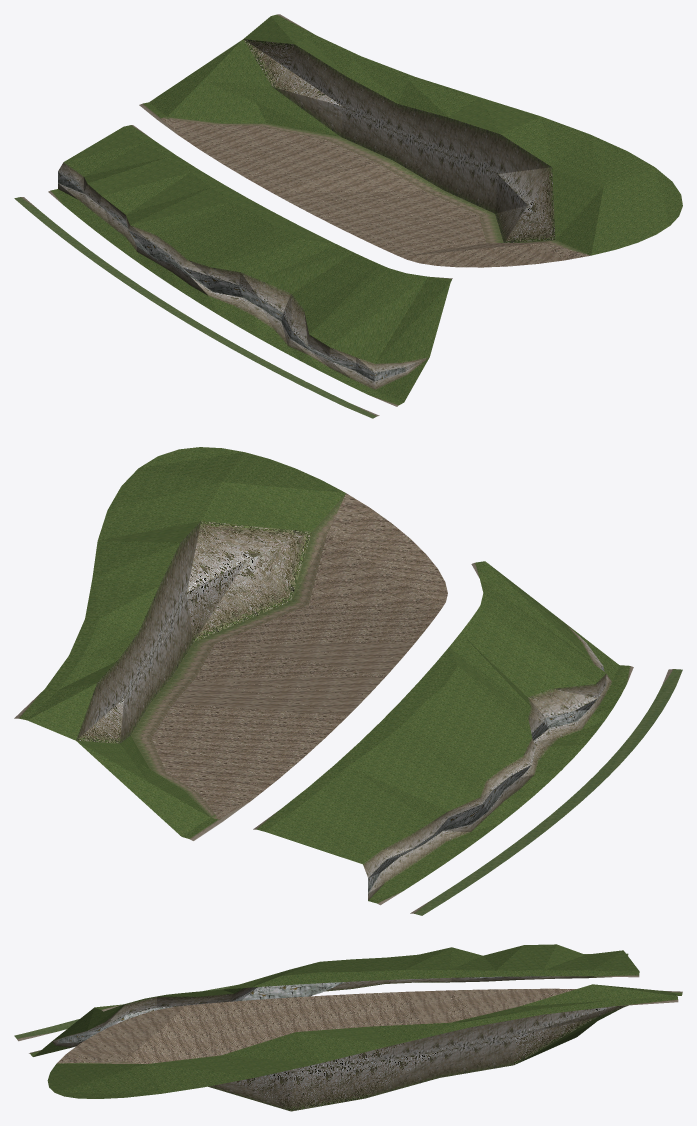
Rendered from lodcuntw02.obj.
The picture shows the model from 3 angles, top to bottom: view 1: azimuth 30°, elevation 25°; view 2: azimuth 150°, elevation 25°; view 3: azimuth 270°, elevation 25°; orthographic projection. The views are drawn at different scales.
Parts seen in each view (by area): view 1: lodcuntw02; view 2: lodcuntw02; view 3: lodcuntw02.
Part boxes in pixels (<box>): lodcuntw02: <box>14,14,682,418</box>; lodcuntw02: <box>14,447,682,915</box>; lodcuntw02: <box>14,944,682,1111</box>.
Bounding box in the file's own units: 223 × 67.9 × 272.
Materials: 7 (7 with a texture image).
